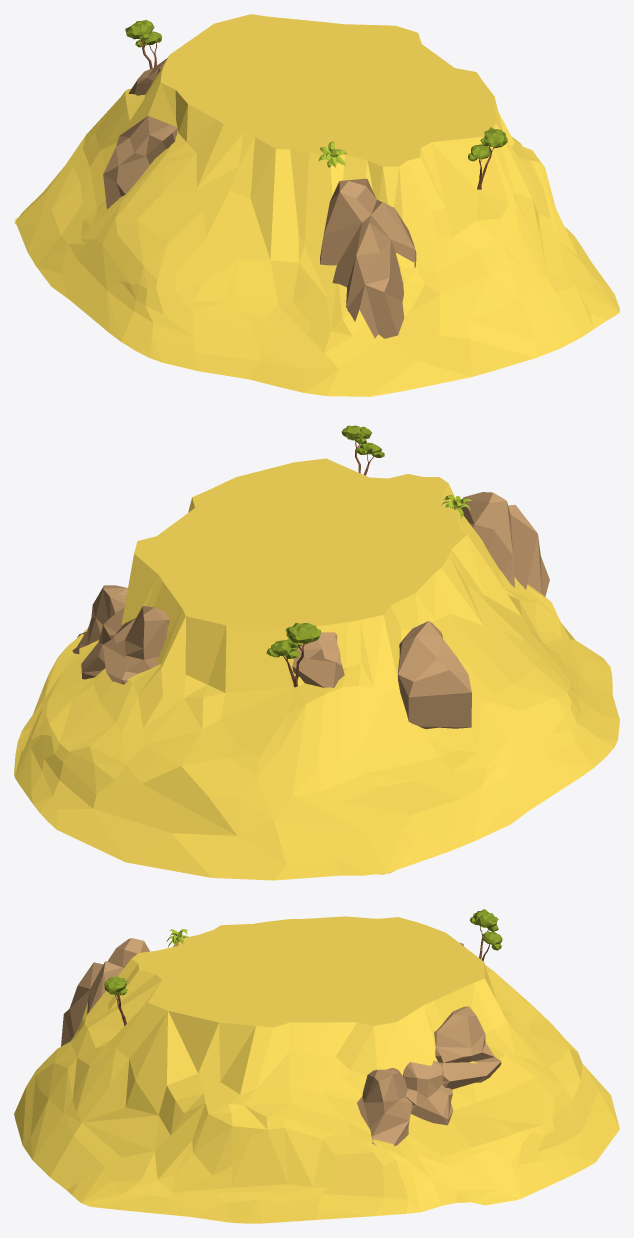
File: Islands_02.FBX
3 renders of one model, top to bottom at view 1: azimuth 30°, elevation 25°; view 2: azimuth 150°, elevation 25°; view 3: azimuth 270°, elevation 25°, orthographic. The views are drawn at different scales.
Visible parts, largest first — view 1: Islands_02; view 2: Islands_02; view 3: Islands_02.
Part boxes in pixels (left/top/right/bottom): Islands_02: left=14, top=14, right=619, bottom=396; Islands_02: left=14, top=425, right=619, bottom=880; Islands_02: left=14, top=909, right=619, bottom=1223.
Size of the model in its own units: 4070 by 1686 by 5178.
